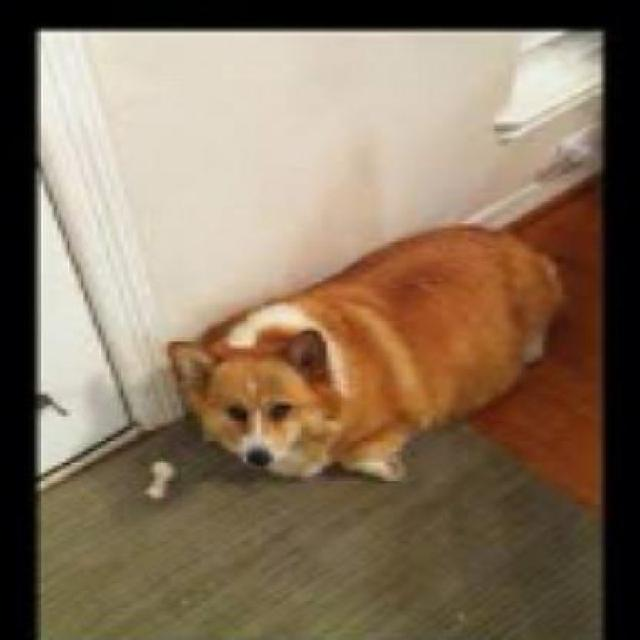Dog: (166, 217, 568, 483)
